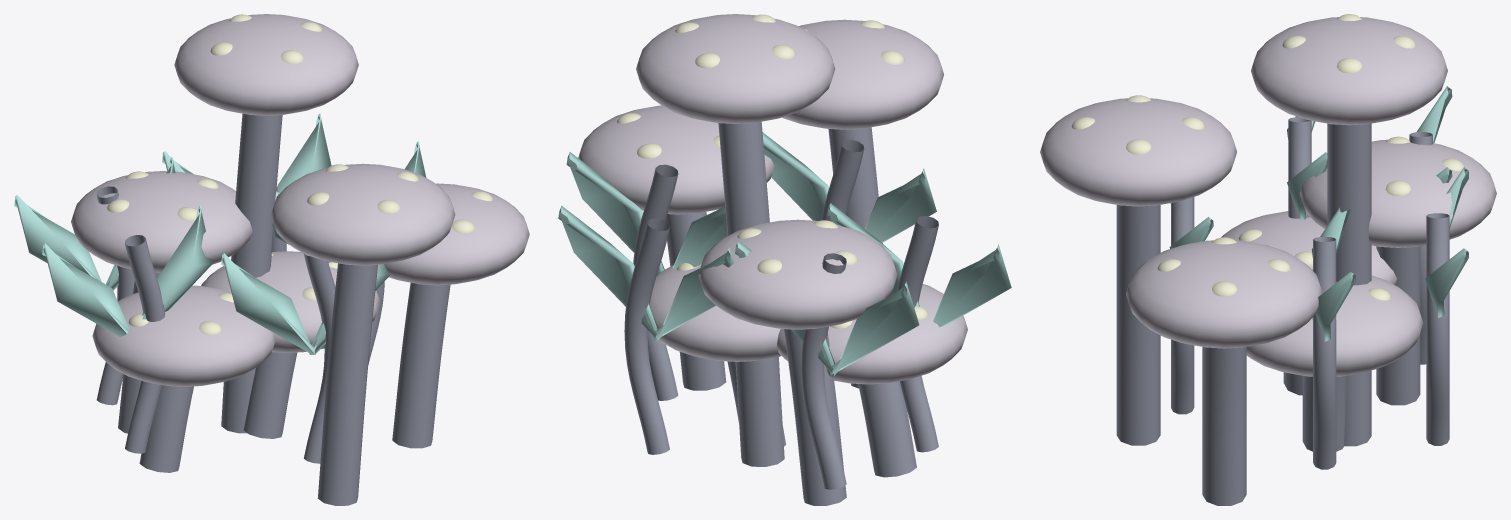
The model's file is bio_spore_fungus_02_near.glb.
3 views of the same model, side by side, from view 1: azimuth 30°, elevation 25°; view 2: azimuth 150°, elevation 25°; view 3: azimuth 270°, elevation 25° (orthographic). The views are drawn at different scales.
Parts seen in each view (by area): view 1: Thick umbrella cap.003, Thick umbrella cap.002, Thick umbrella cap.004, Thick umbrella cap.001, Curved stipe.002, Thick umbrella cap.005, Curved stipe.003, Curved stipe.005, Secondary fan lobe.008, Secondary fan lobe.004, Thick umbrella cap, Branching support.004 (+11 smaller); view 2: Thick umbrella cap.003, Thick umbrella cap.001, Thick umbrella cap.002, Thick umbrella cap.005, Curved stipe.003, Thick umbrella cap.004, Thick umbrella cap, Branching support.003, Secondary fan lobe.004, Secondary fan lobe.006, Secondary fan lobe, Branching support.001 (+12 smaller); view 3: Thick umbrella cap.002, Thick umbrella cap.003, Thick umbrella cap.005, Thick umbrella cap.001, Curved stipe.002, Thick umbrella cap, Curved stipe.003, Curved stipe.005, Branching support.003, Branching support, Curved stipe.001, Thick umbrella cap.004 (+13 smaller).
Part boxes in pixels (x1,y1,x2,y2): Thick umbrella cap.003: (174,14,358,115); Thick umbrella cap.002: (271,163,455,265); Thick umbrella cap.004: (92,285,275,386); Thick umbrella cap.001: (71,171,252,272); Curved stipe.002: (317,263,377,505); Thick umbrella cap.005: (384,183,529,285); Curved stipe.003: (221,113,282,433); Curved stipe.005: (392,282,450,448); Secondary fan lobe.008: (42,205,212,336); Secondary fan lobe.004: (221,253,389,354); Thick umbrella cap: (201,251,380,352); Branching support.004: (125,235,165,453); Thick umbrella cap.003: (636,14,835,123); Thick umbrella cap.001: (698,219,897,329); Thick umbrella cap.002: (782,19,943,129); Thick umbrella cap.005: (578,105,774,214); Curved stipe.003: (718,121,784,466); Thick umbrella cap.004: (777,284,967,384); Thick umbrella cap: (649,265,781,361); Branching support.003: (624,218,669,454); Secondary fan lobe.004: (762,132,936,242); Secondary fan lobe.006: (558,205,733,340); Secondary fan lobe: (566,152,727,275); Branching support.001: (801,253,846,489); Thick umbrella cap.002: (1040,98,1236,206); Thick umbrella cap.003: (1251,17,1447,125); Thick umbrella cap.005: (1126,240,1322,348); Thick umbrella cap.001: (1300,139,1496,247); Curved stipe.002: (1116,205,1160,445); Thick umbrella cap: (1246,269,1423,376); Curved stipe.003: (1327,123,1371,446); Curved stipe.005: (1202,347,1246,505); Branching support.003: (1426,213,1449,445); Branching support: (1313,237,1336,469); Curved stipe.001: (1376,246,1420,405); Thick umbrella cap.004: (1221,211,1396,284).
Size of the model in its own units: 2.03 by 1.78 by 1.76.
